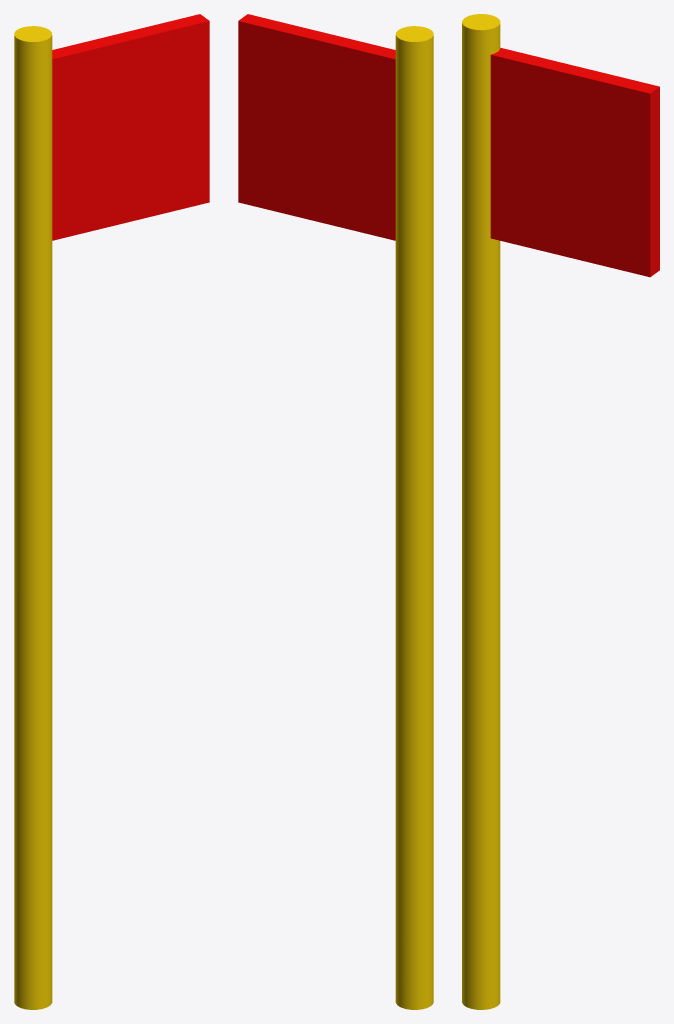
The model's file is pole.fbx.
The picture shows the model from 3 angles, left to right: view 1: azimuth 30°, elevation 25°; view 2: azimuth 150°, elevation 25°; view 3: azimuth 330°, elevation 25°; orthographic projection.
Visible parts, largest first — view 1: pCylinder1, pCube1; view 2: pCylinder1, pCube1; view 3: pCylinder1, pCube1.
Boxes of the visible parts, <box> form: pCylinder1: <box>14,26,52,1009</box>; pCube1: <box>52,14,209,240</box>; pCylinder1: <box>395,26,433,1009</box>; pCube1: <box>238,14,395,240</box>; pCylinder1: <box>462,14,500,1009</box>; pCube1: <box>490,47,659,277</box>.
Size of the model in its own units: 0.855 by 4.2 by 0.15.
1 material, 1 textured.
